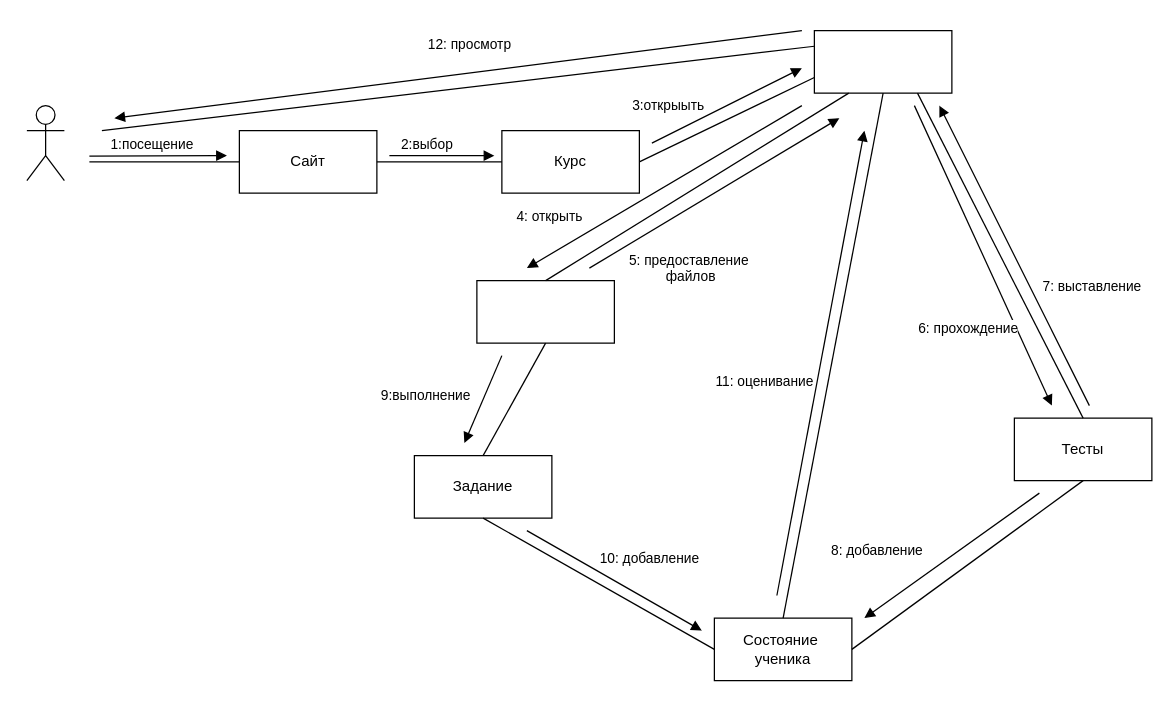
This 1174x703 diagram has some shape labels left out. The box of each missing label's shape, as (x1, y1, x2, y2) in pixels:
Материал: (813, 29, 952, 93)
Материал(уроки): (476, 279, 614, 343)
Ученик: (26, 104, 64, 181)
